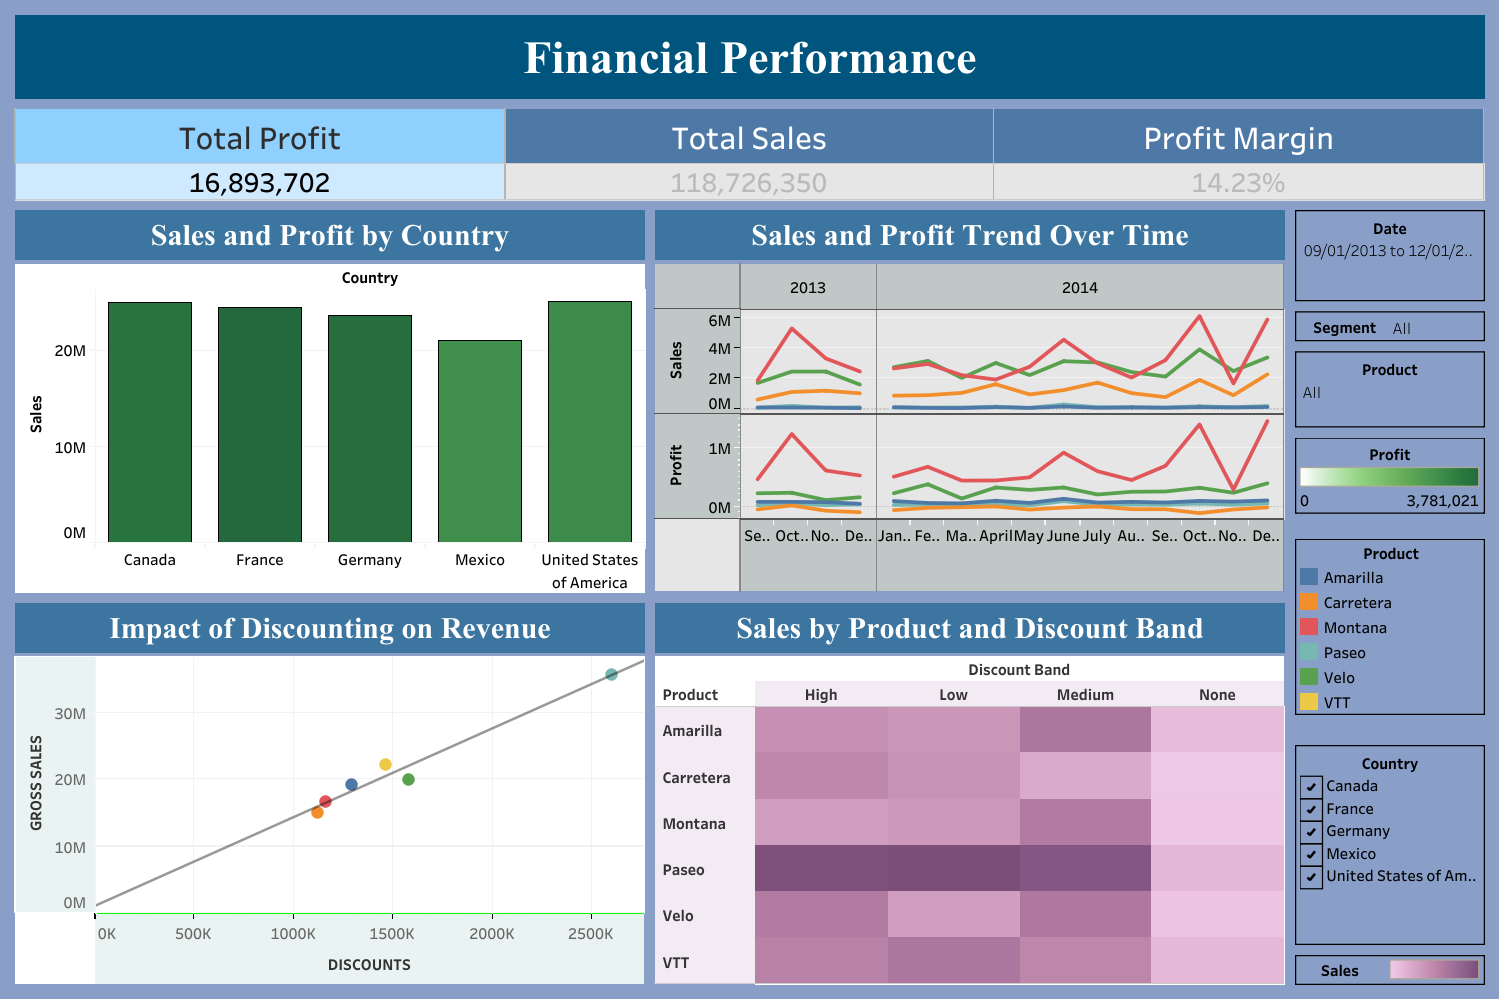

The dashboard page shown, as its layout file describes it:
{"tool":"tableau","page":{"name":"Dashboard 1","canvas":[1200,800],"ordinal":0},"visuals":[{"type":"title","box":[8,8,1184,75]},{"type":"worksheet","title":"Sheet 5","mark":"Automatic","box":[8,83,1184,81]},{"type":"worksheet","title":"Sheet 1","mark":"Bar","rows":["Calculation_0440928423645185"],"cols":["Country"],"box":[8,164,512,313.9]},{"type":"worksheet","title":"Sheet 2","mark":"Line","rows":["Calculation_0440928423645185","Calculation_0440928423985154"],"cols":["Date","Month Name "],"box":[520,164,512,313.9]},{"type":"filter","title":"Sheet 1","param":"[federated.0qieugx0ank7e8152gab60ga5py5].[none:Date:qk]","box":[1032,164,160,81]},{"type":"filter","title":"Sheet 1","param":"[federated.0qieugx0ank7e8152gab60ga5py5].[none:Segment:nk]","box":[1032,245,160,32]},{"type":"filter","title":"Sheet 1","param":"[federated.0qieugx0ank7e8152gab60ga5py5].[none:Product :nk]","box":[1032,277,160,69]},{"type":"legend","title":"Sheet 1","param":"[federated.0qieugx0ank7e8152gab60ga5py5].[sum:Calculation_0440928423985154:qk]","box":[1032,346,160,81]},{"type":"legend","title":"Sheet 3","param":"[federated.0qieugx0ank7e8152gab60ga5py5].[none:Product :nk]","box":[1032,427,160,165]},{"type":"worksheet","title":"Sheet 3","mark":"Circle","rows":["Calculation_0440928459005956"],"cols":["Calculation_0440928459198469"],"box":[8,477.9,512,314.1]},{"type":"worksheet","title":"Sheet 4","mark":"Square","rows":["Product "],"cols":["Discount Band "],"box":[520,477.9,512,314.1]},{"type":"filter","title":"Sheet 1","param":"[federated.0qieugx0ank7e8152gab60ga5py5].[none:Country:nk]","box":[1032,592,160,168]},{"type":"legend","title":"Sheet 4","param":"[federated.0qieugx0ank7e8152gab60ga5py5].[sum:Calculation_0440928423645185:qk]","box":[1032,760,160,32]}]}

Visuals, with their boxes in screenshot pixels (x1, y1, x2, y2), scaled from the page's 1200x800 canvas onto the 1499x999 screenshot:
title: 10, 10, 1489, 104
"Sheet 5" worksheet: 10, 104, 1489, 205
"Sheet 1" worksheet (Bar marks): 10, 205, 650, 597
"Sheet 2" worksheet (Line marks): 650, 205, 1289, 597
"Sheet 1" filter: 1289, 205, 1489, 306
"Sheet 1" filter: 1289, 306, 1489, 346
"Sheet 1" filter: 1289, 346, 1489, 432
"Sheet 1" legend: 1289, 432, 1489, 533
"Sheet 3" legend: 1289, 533, 1489, 739
"Sheet 3" worksheet (Circle marks): 10, 597, 650, 989
"Sheet 4" worksheet (Square marks): 650, 597, 1289, 989
"Sheet 1" filter: 1289, 739, 1489, 949
"Sheet 4" legend: 1289, 949, 1489, 989
